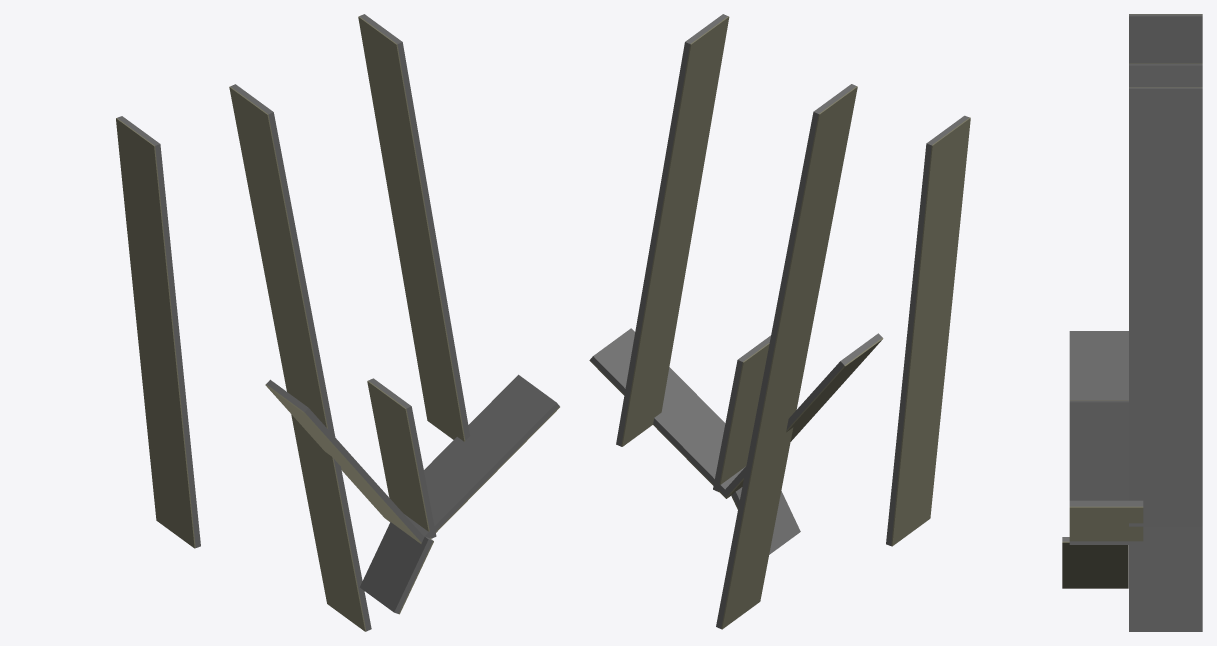
Rendered from Stair.obj.
3 views of the same model, side by side, from view 1: azimuth 30°, elevation 25°; view 2: azimuth 150°, elevation 25°; view 3: azimuth 270°, elevation 25° (orthographic). The views are drawn at different scales.
Visible parts, largest first — view 1: STRUCTURAL_-_BEARING_PAINT_-_SAND_BEIGE, STRUCTURAL_-_BEARING_PAINT_-_LIGHT_GRAY; view 2: STRUCTURAL_-_BEARING_PAINT_-_SAND_BEIGE, STRUCTURAL_-_BEARING_PAINT_-_LIGHT_GRAY; view 3: STRUCTURAL_-_BEARING_PAINT_-_LIGHT_GRAY, STRUCTURAL_-_BEARING_PAINT_-_SAND_BEIGE.
Part boxes in pixels (bbox=[...]): STRUCTURAL_-_BEARING_PAINT_-_SAND_BEIGE: bbox=[116, 16, 559, 631]; STRUCTURAL_-_BEARING_PAINT_-_LIGHT_GRAY: bbox=[117, 14, 559, 631]; STRUCTURAL_-_BEARING_PAINT_-_SAND_BEIGE: bbox=[589, 16, 970, 629]; STRUCTURAL_-_BEARING_PAINT_-_LIGHT_GRAY: bbox=[590, 14, 969, 628]; STRUCTURAL_-_BEARING_PAINT_-_LIGHT_GRAY: bbox=[1062, 14, 1202, 631]; STRUCTURAL_-_BEARING_PAINT_-_SAND_BEIGE: bbox=[1062, 14, 1202, 588].
Bounding box in the file's own units: 22296 × 25948 × 5912.
